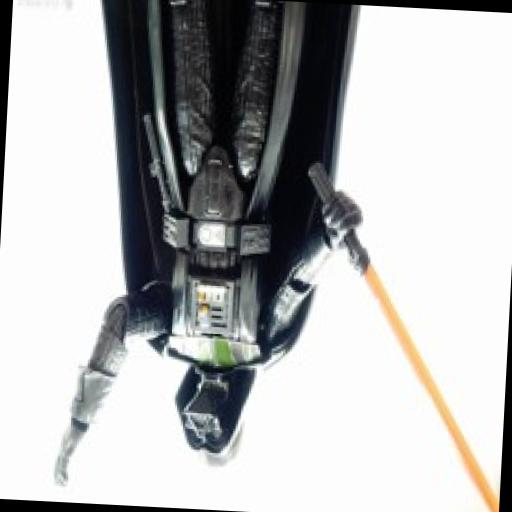human: (41, 0, 390, 503)
sith saber: (289, 159, 512, 512)
